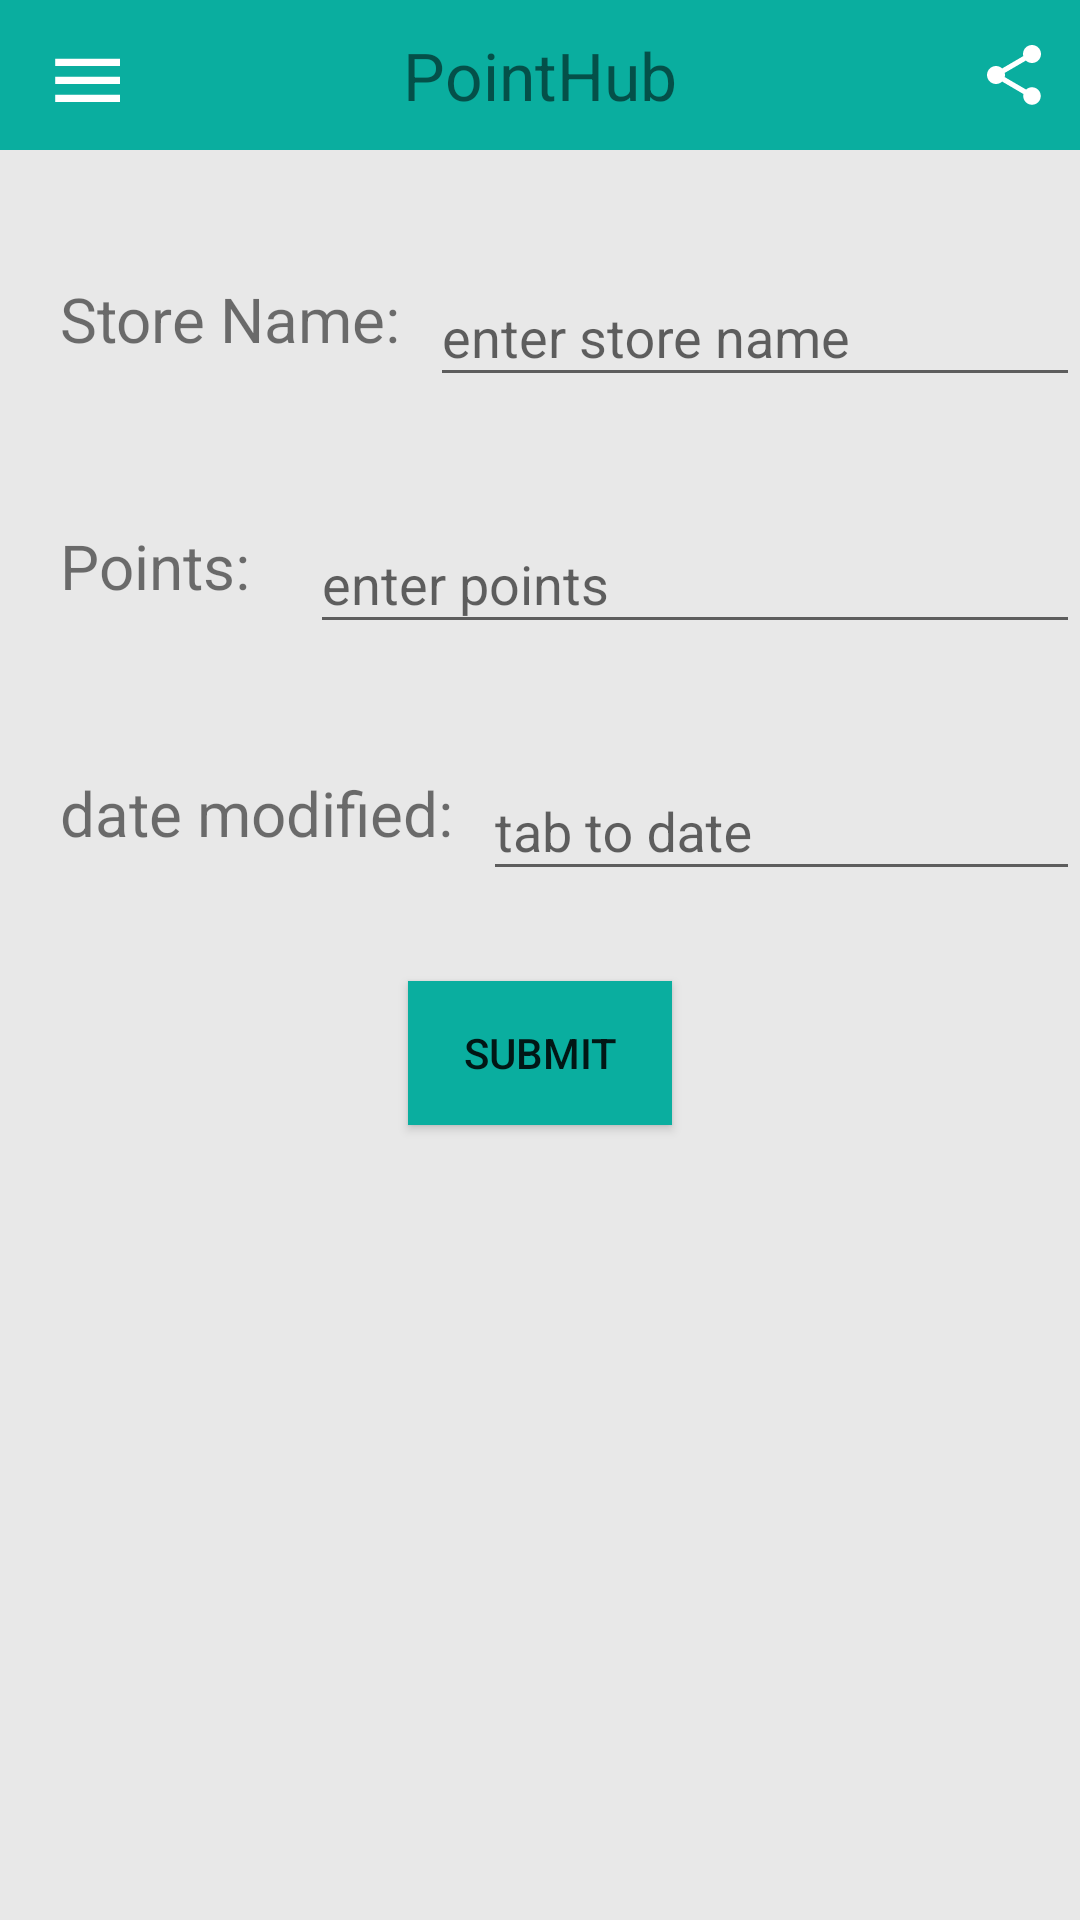

Screen size 1080w x 1920h. Icon name, then its box in pixels as (x1, y1, x2, y2):
share: (987, 45, 1041, 105)
